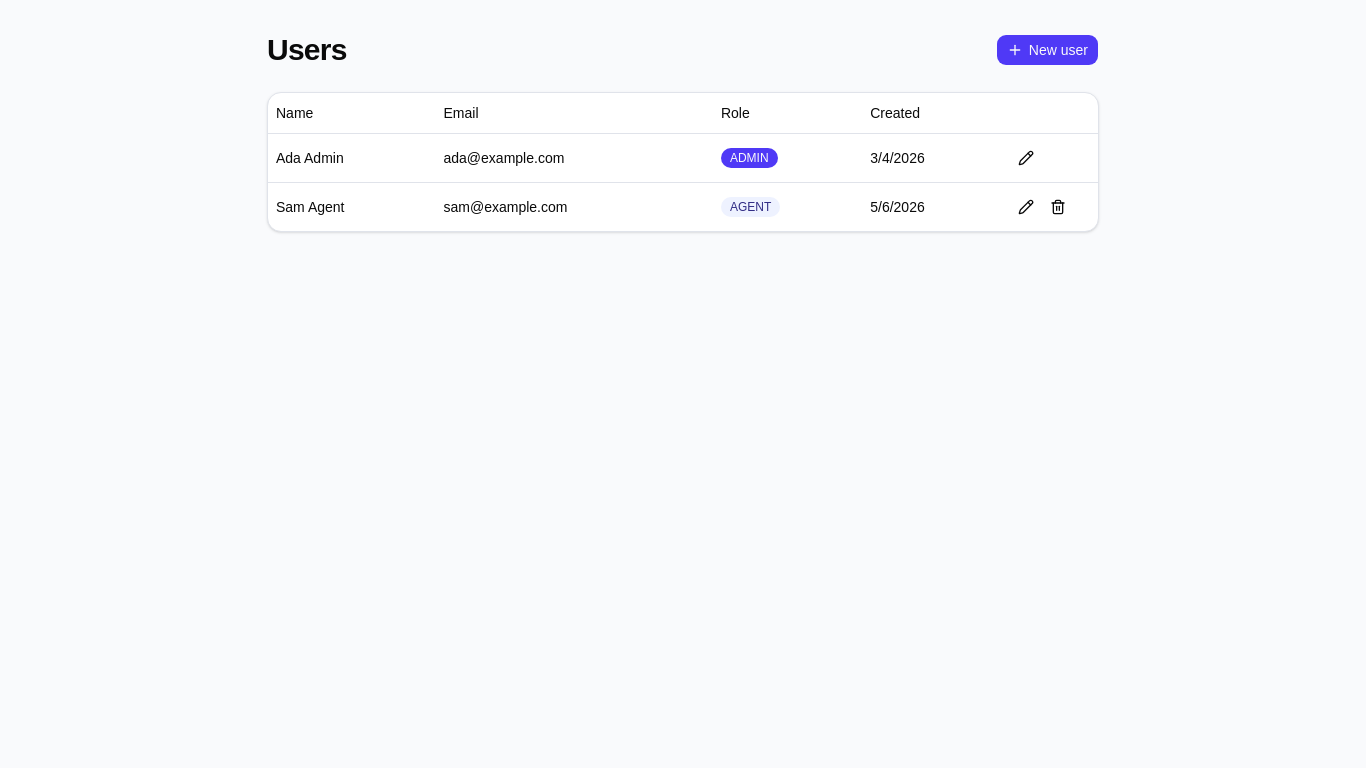
Test case: UsersPage › delete user › asks for confirmation before deleting
The image size is (1366, 768).
Step 1. Click the button named "Delete Sam Agent" → {"x": 1058, "y": 206}, box left=1042, top=190, right=1074, bottom=222
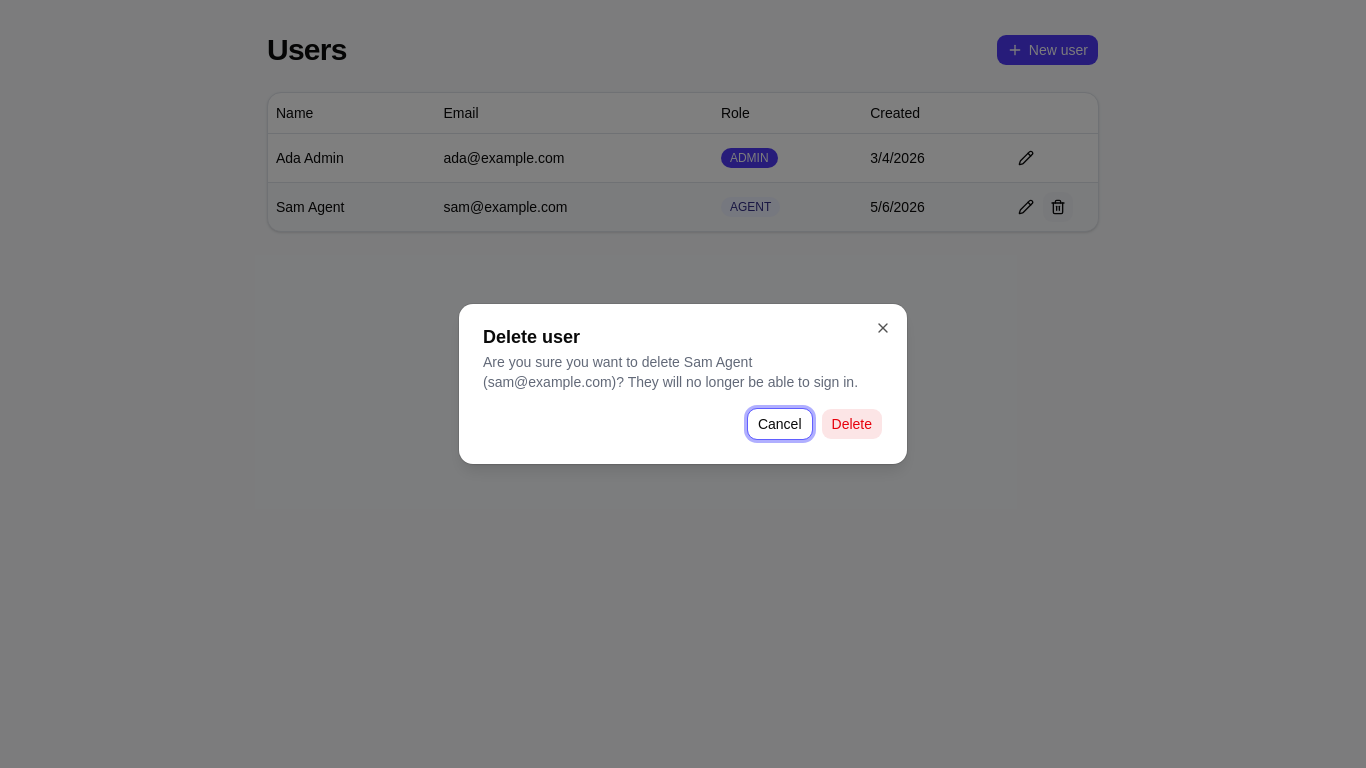
Expected: the dialog shows "Sam Agent", left=684, top=354, right=752, bottom=370
